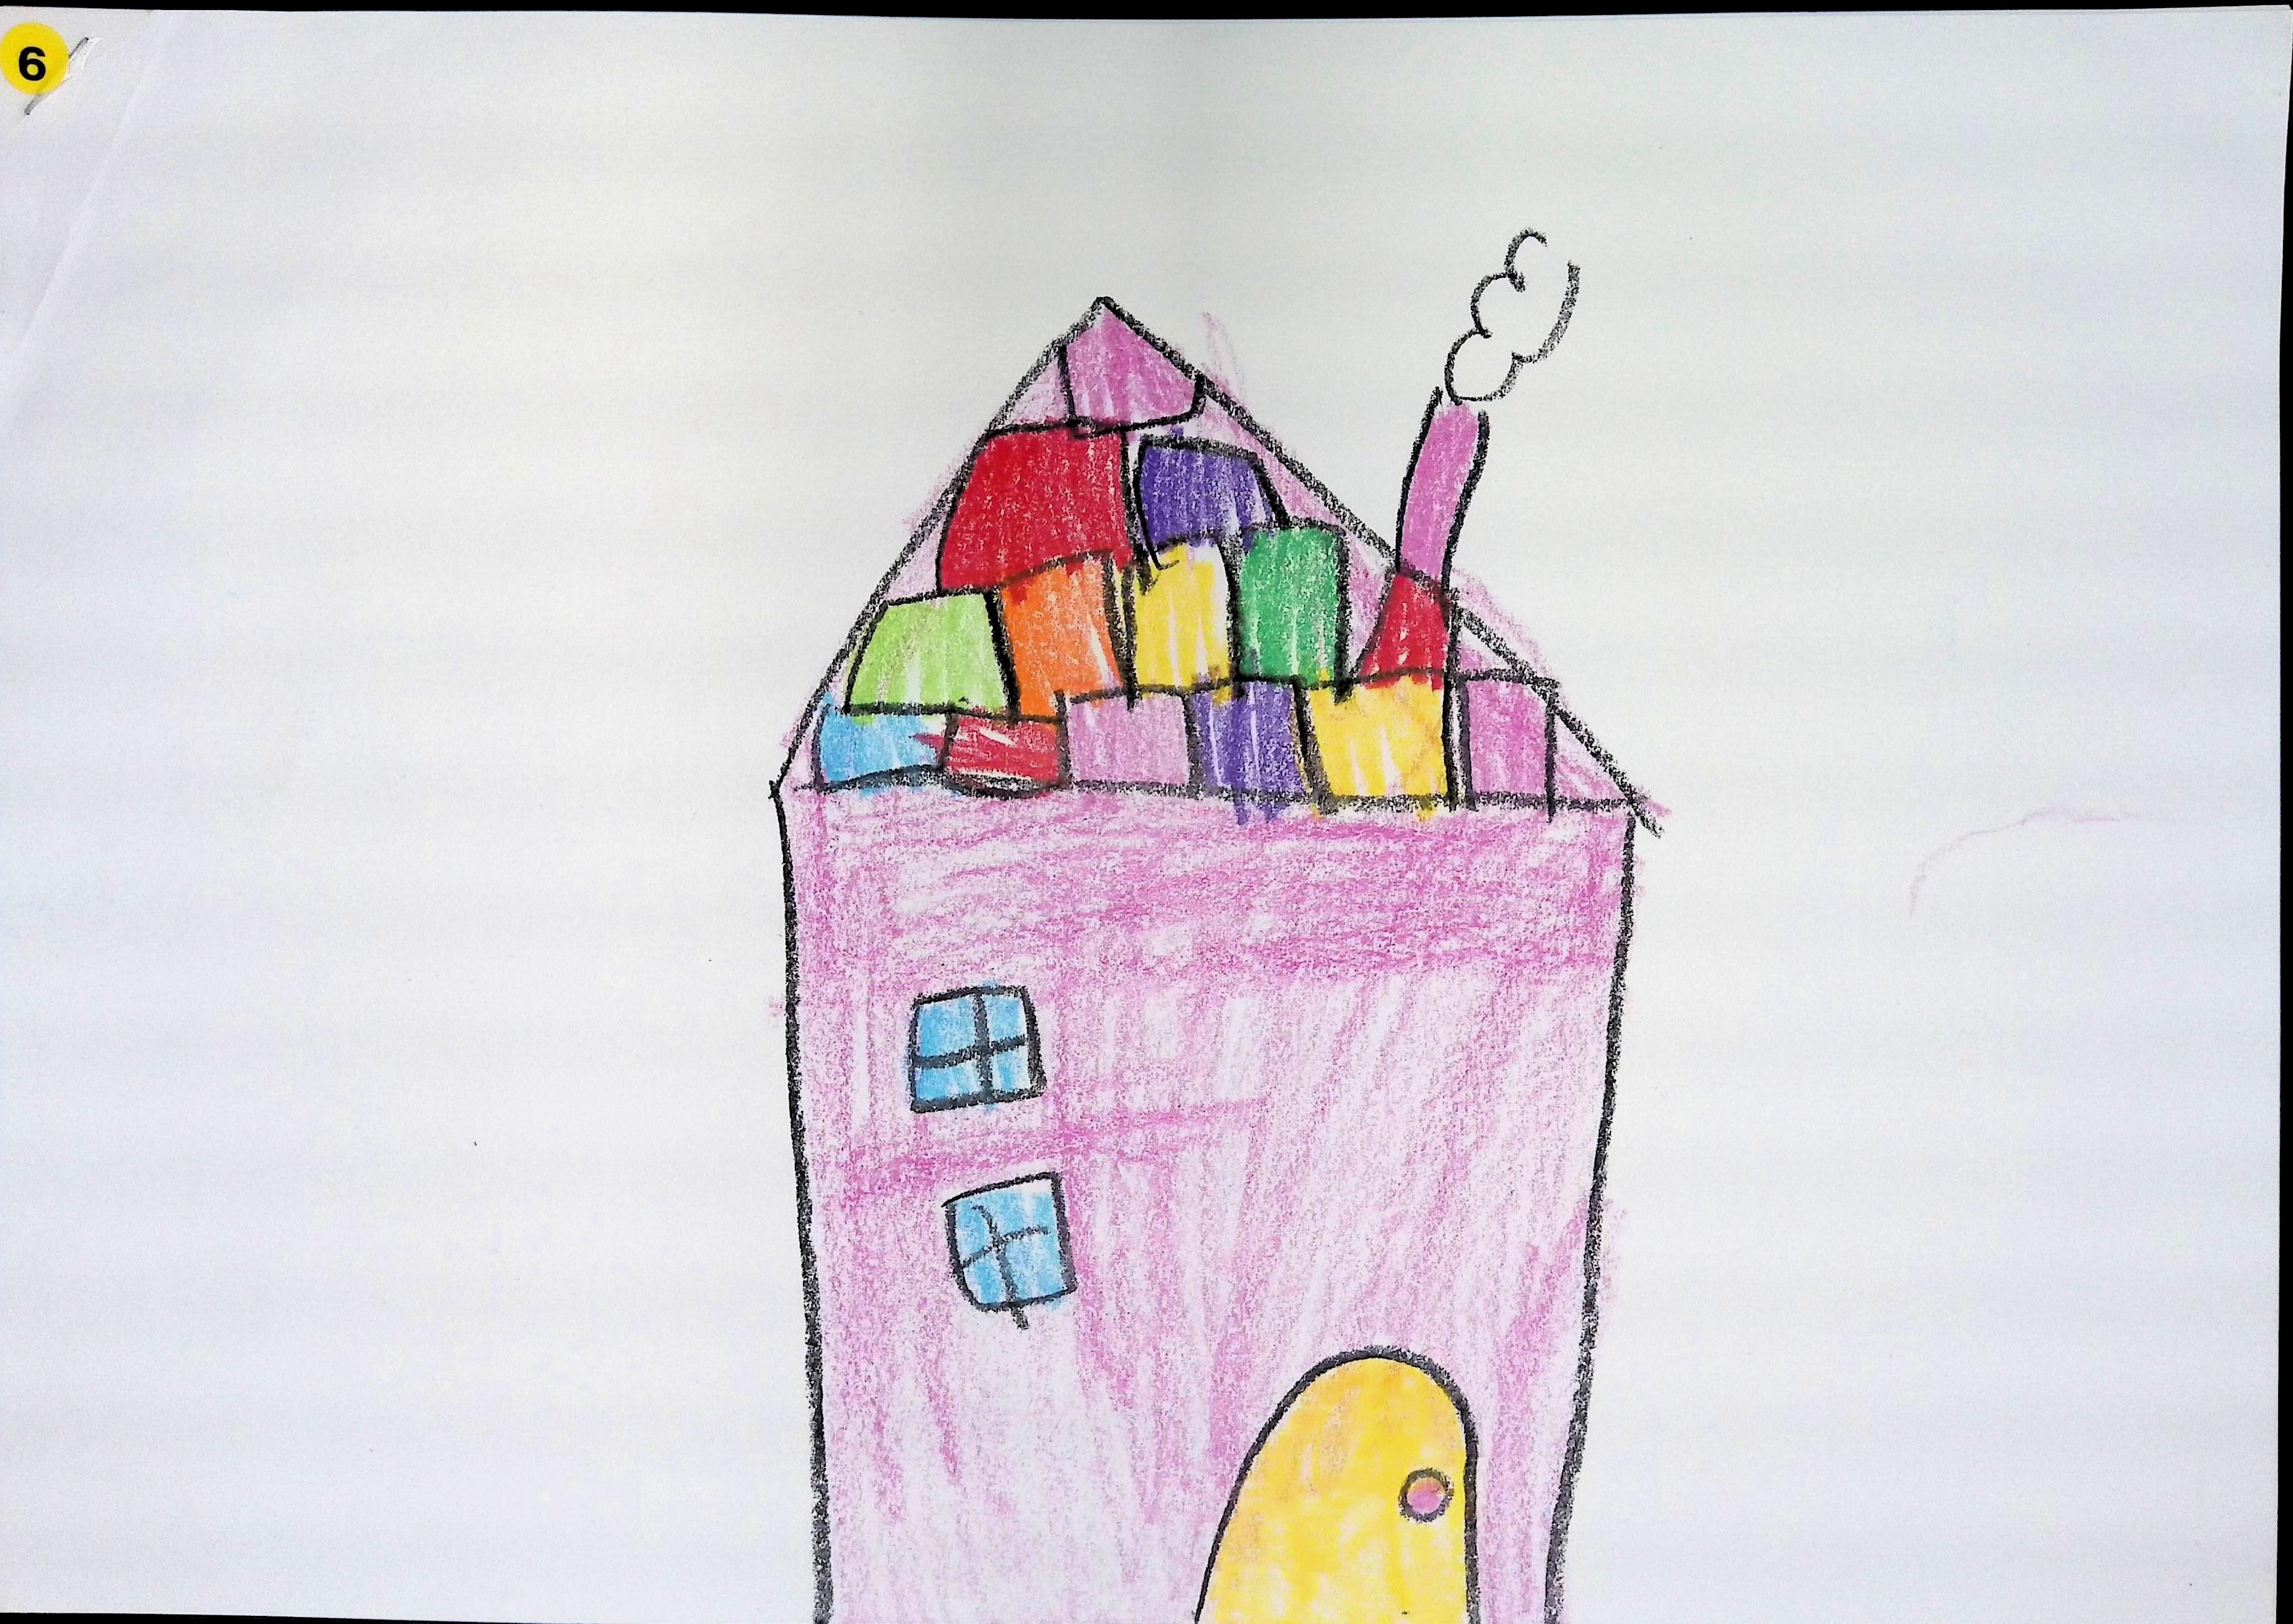chimney: (1390, 383, 1494, 594)
door: (1198, 1353, 1476, 1624)
house: (775, 297, 1659, 1624)
roof: (778, 299, 1638, 805)
wall: (780, 779, 1641, 1624)
window: (944, 1174, 1077, 1311), (908, 986, 1044, 1113)
